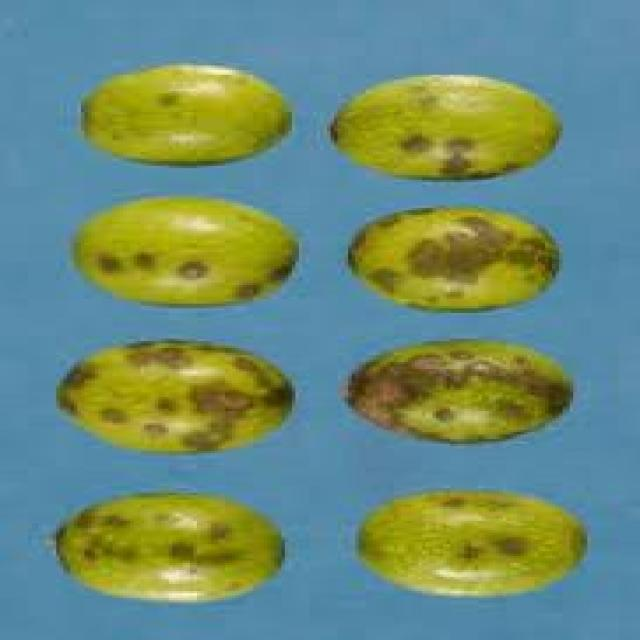Anthracnose: (56, 344, 278, 451), (358, 491, 584, 594), (77, 198, 296, 304), (348, 341, 570, 441), (60, 495, 271, 600), (334, 74, 545, 178), (352, 210, 556, 308), (84, 66, 288, 162)
